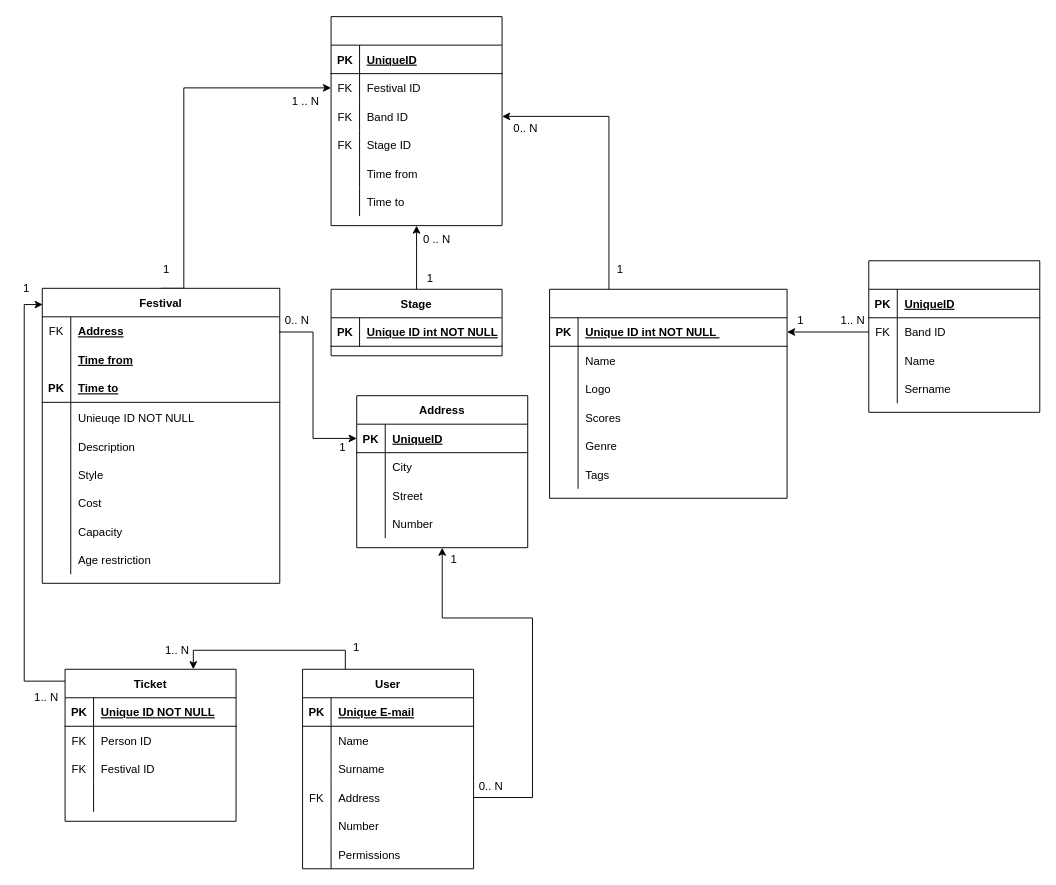
The diagram is 1056 pixels wide and 885 high, and some of its shapes have lost their labels. Here are the shapes that lost their labels. From the top down, the box of each, then its label:
(330, 16, 502, 226): List of perfomances
(868, 260, 1040, 412): Member
(549, 288, 787, 498): Band
